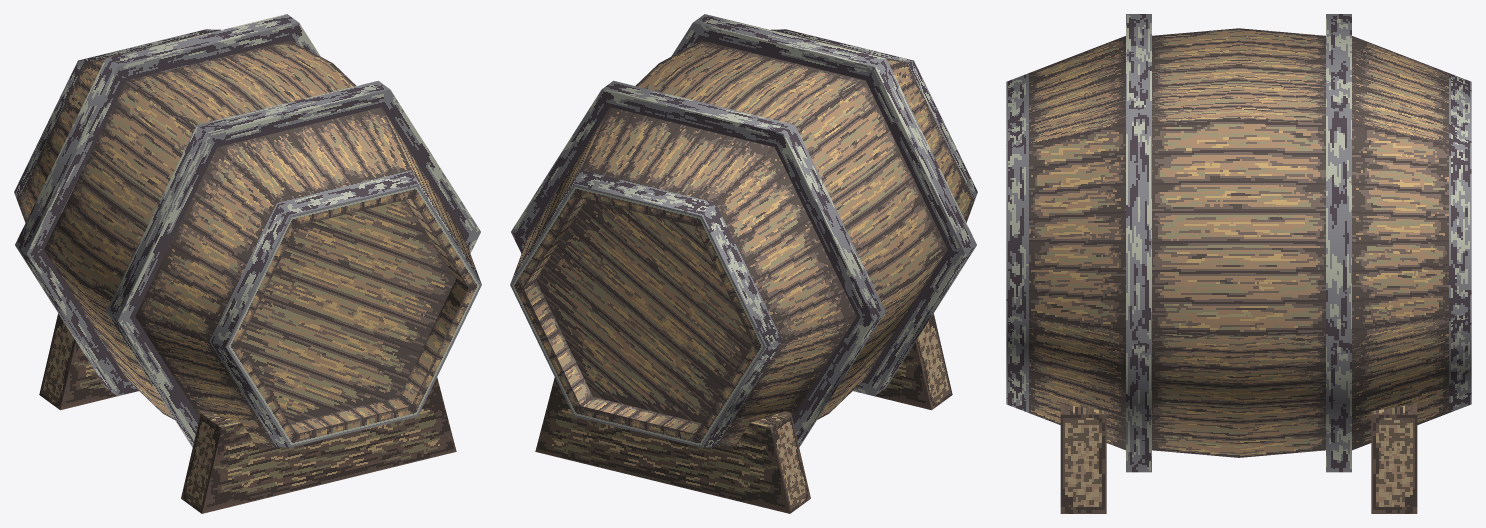
Rendered from big_barrel.glb.
The picture shows the model from 3 angles, left to right: view 1: azimuth 30°, elevation 25°; view 2: azimuth 150°, elevation 25°; view 3: azimuth 270°, elevation 25°; orthographic projection. The views are drawn at different scales.
Visible parts, largest first — view 1: Cylinder, Cube; view 2: Cylinder, Cube; view 3: Cylinder, Cube.
Part boxes in pixels (x1,y1,x2,y2): Cylinder: (14,14,481,447); Cube: (39,313,456,513); Cylinder: (510,14,977,447); Cube: (535,313,952,513); Cylinder: (1006,14,1471,472); Cube: (1060,403,1417,513).
Bounding box in the file's own units: 2.09 × 1.92 × 2.11.
Materials: 2 (2 with a texture image).
